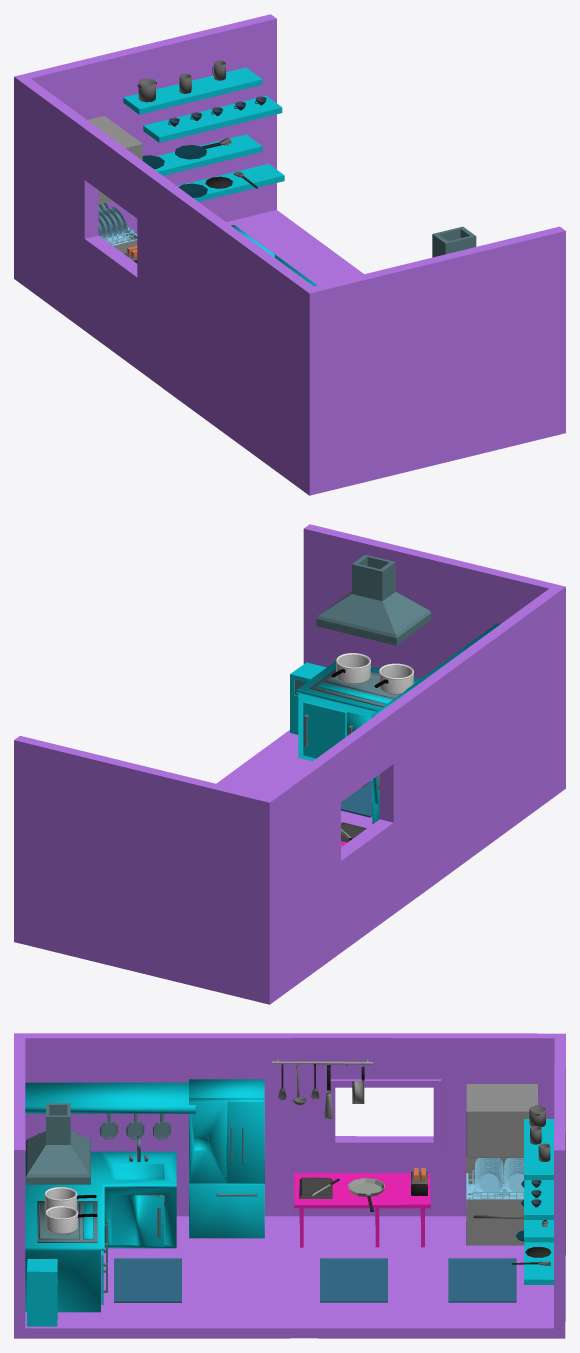
The model's file is kitchen.glb.
The picture shows the model from 3 angles, top to bottom: view 1: azimuth 30°, elevation 25°; view 2: azimuth 150°, elevation 25°; view 3: azimuth 270°, elevation 25°; orthographic projection. The views are drawn at different scales.
Parts seen in each view (by area): view 1: Walls.001, Walls2, Shelf2, Shelf1, Shelf1.001, Shelf2.001, dishwasher1.002, Thing_above_the_stove_i_dont_really_know_wat_its_called, dishwasher1.001; view 2: Walls2, Walls.001, Thing_above_the_stove_i_dont_really_know_wat_its_called, Handle1, Counter.001, BezierCircle.002, BezierCircle.001, Metal, Carpet, Stove_Top; view 3: Walls2, Walls.001, Fridge, Counter.001, Top_Shelf, dishwasher1.001, Thing_above_the_stove_i_dont_really_know_wat_its_called, Top, Carpet.003, Carpet, Carpet.002, dishwasher1 (+13 smaller).
Part boxes in pixels (x1,y1,x2,y2): Walls.001: (161,182,565,495); Walls2: (14,14,363,386); Shelf2: (143,95,282,142); Shelf1: (123,67,262,114); Shelf1.001: (154,134,262,175); Shelf2.001: (177,163,284,201); dishwasher1.002: (98,203,137,245); Thing_above_the_stove_i_dont_really_know_wat_its_called: (432,226,476,257); dishwasher1.001: (87,116,142,203); Walls2: (14,692,417,1004); Walls.001: (216,524,565,896); Thing_above_the_stove_i_dont_really_know_wat_its_called: (316,554,431,645); Handle1: (303,701,345,758); Counter.001: (296,661,420,761); BezierCircle.002: (331,653,370,684); BezierCircle.001: (374,663,413,694); Metal: (290,662,326,734); Carpet: (341,780,372,817); Stove_Top: (309,668,416,707); Walls2: (289,1033,565,1338); Walls.001: (14,1033,289,1338); Fridge: (189,1079,264,1238); Counter.001: (25,1151,176,1312); Top_Shelf: (25,1082,195,1113); dishwasher1.001: (466,1084,538,1173); Thing_above_the_stove_i_dont_really_know_wat_its_called: (26,1103,90,1184); Top: (294,1173,430,1208); Carpet.003: (448,1258,516,1302); Carpet: (114,1258,181,1302); Carpet.002: (320,1258,387,1302); dishwasher1: (466,1130,524,1245).
Bounding box in the file's own units: 3.66 × 2.75 × 7.3.
21 materials, 8 textured.
